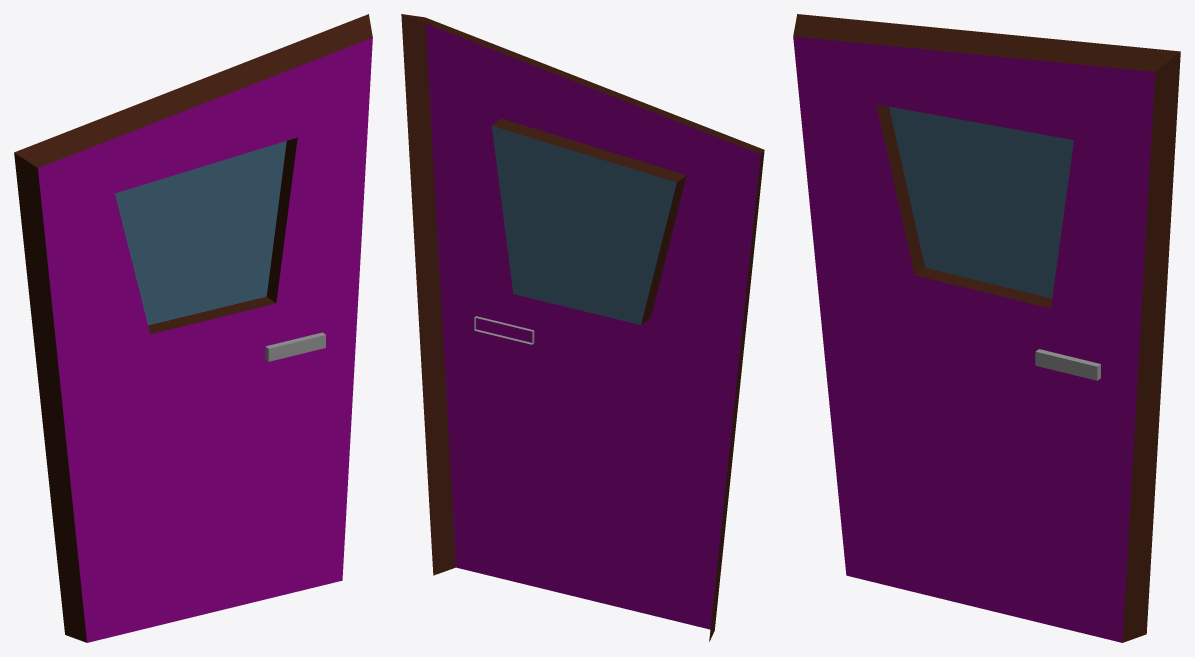
File: Door2.FBX
The picture shows the model from 3 angles, left to right: view 1: azimuth 30°, elevation 25°; view 2: azimuth 150°, elevation 25°; view 3: azimuth 330°, elevation 25°; orthographic projection. The views are drawn at different scales.
Parts seen in each view (by area): view 1: ENV_Door; view 2: ENV_Door; view 3: ENV_Door.
Part boxes in pixels (x1,y1,x2,y2): ENV_Door: (14, 14, 372, 642); ENV_Door: (401, 14, 764, 641); ENV_Door: (793, 14, 1180, 642).
Size of the model in its own units: 122 by 179 by 10.19.
